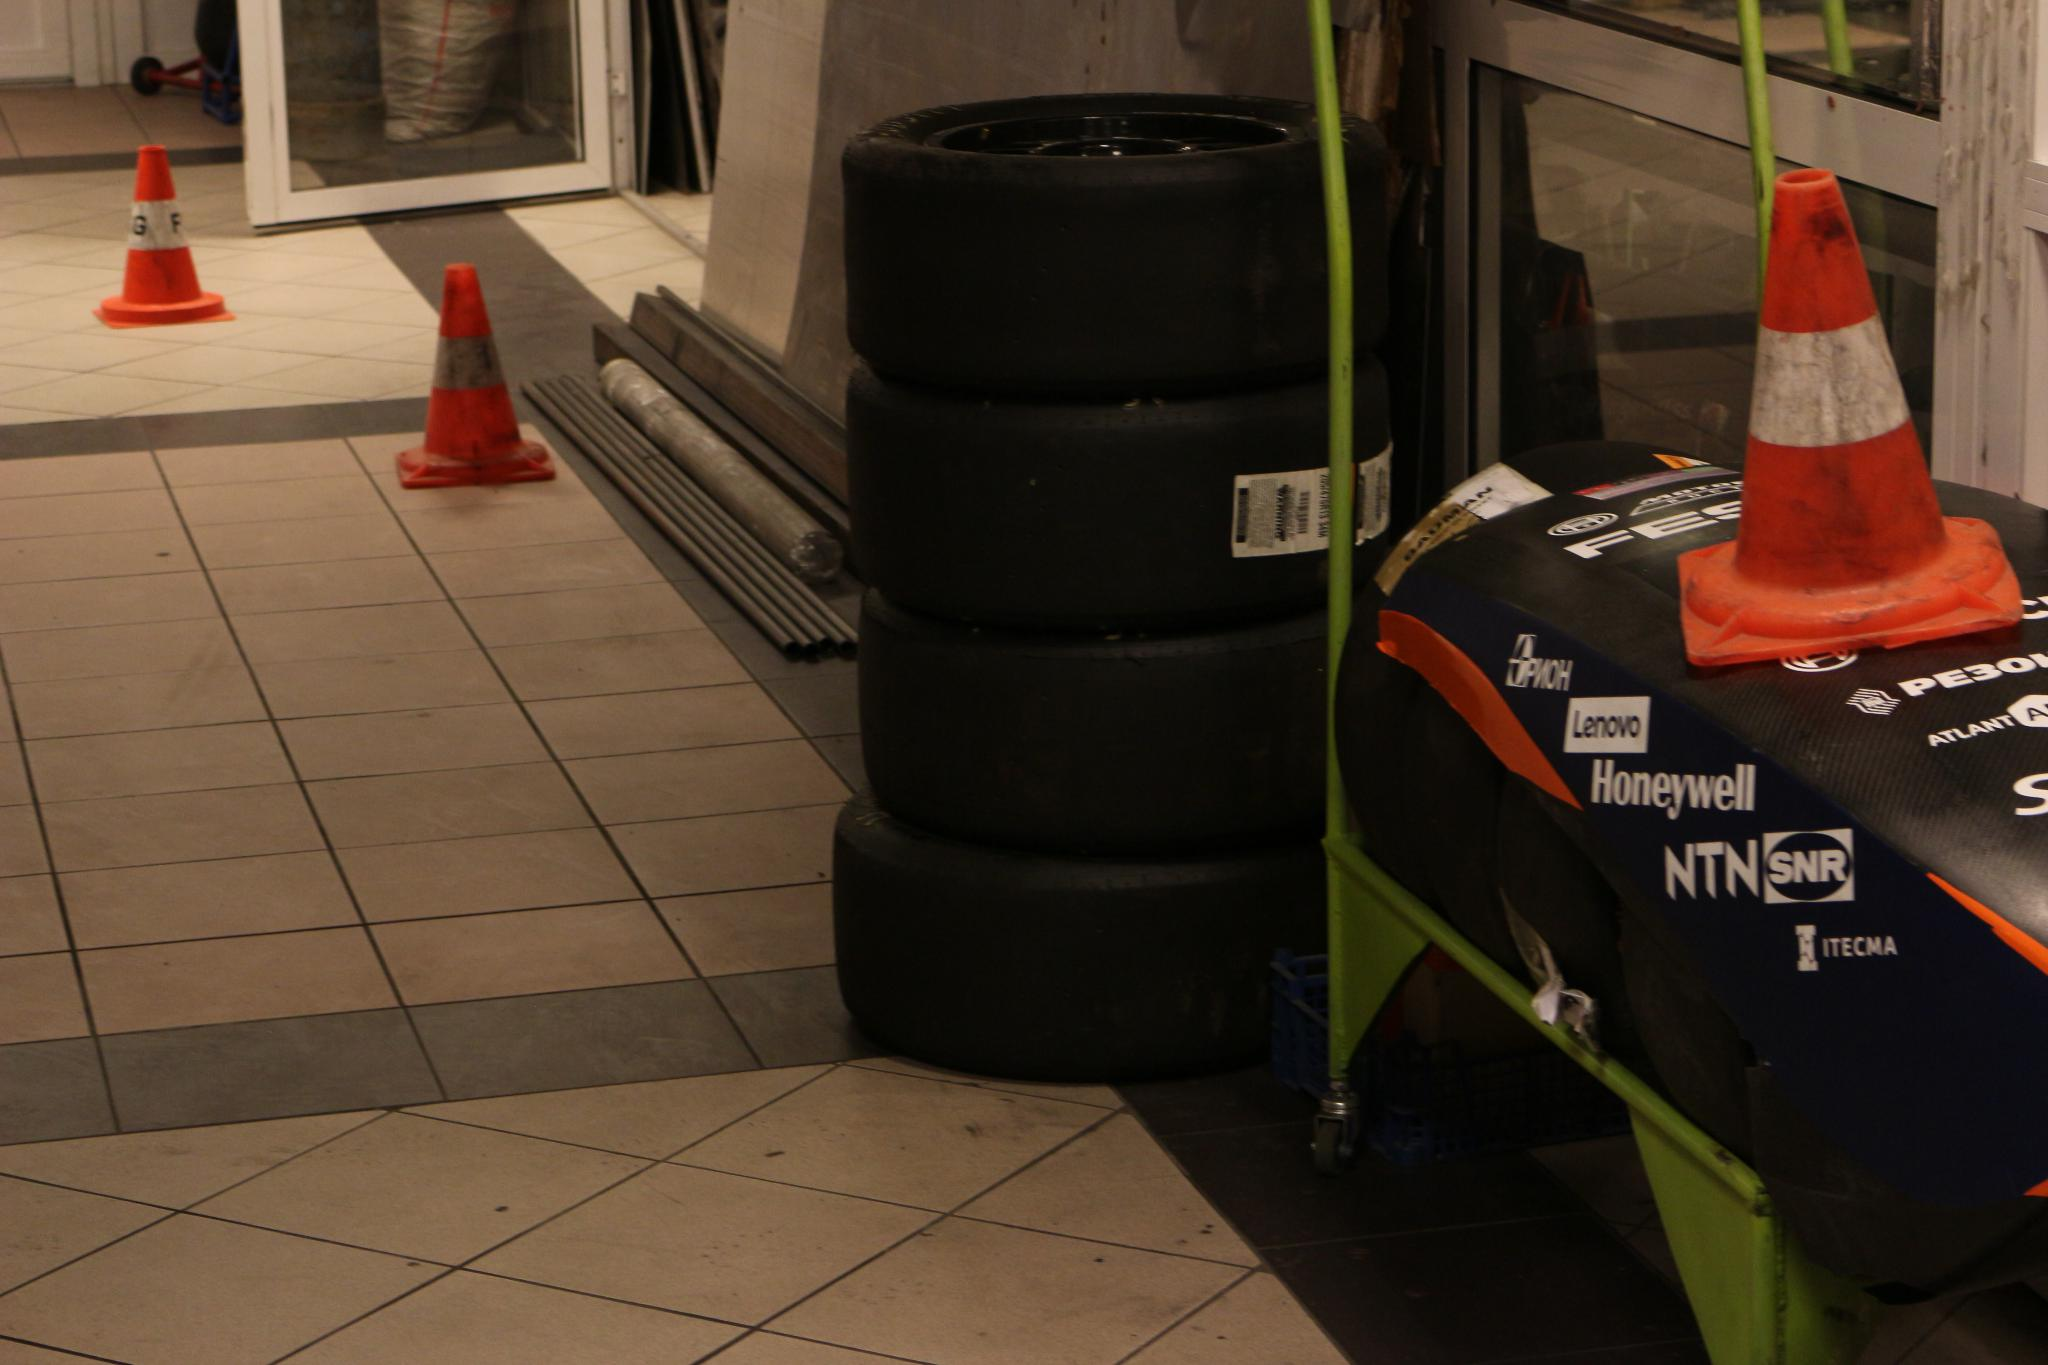Orange_Cone: (1664, 163, 2030, 643), (381, 250, 566, 489), (85, 139, 227, 329)
